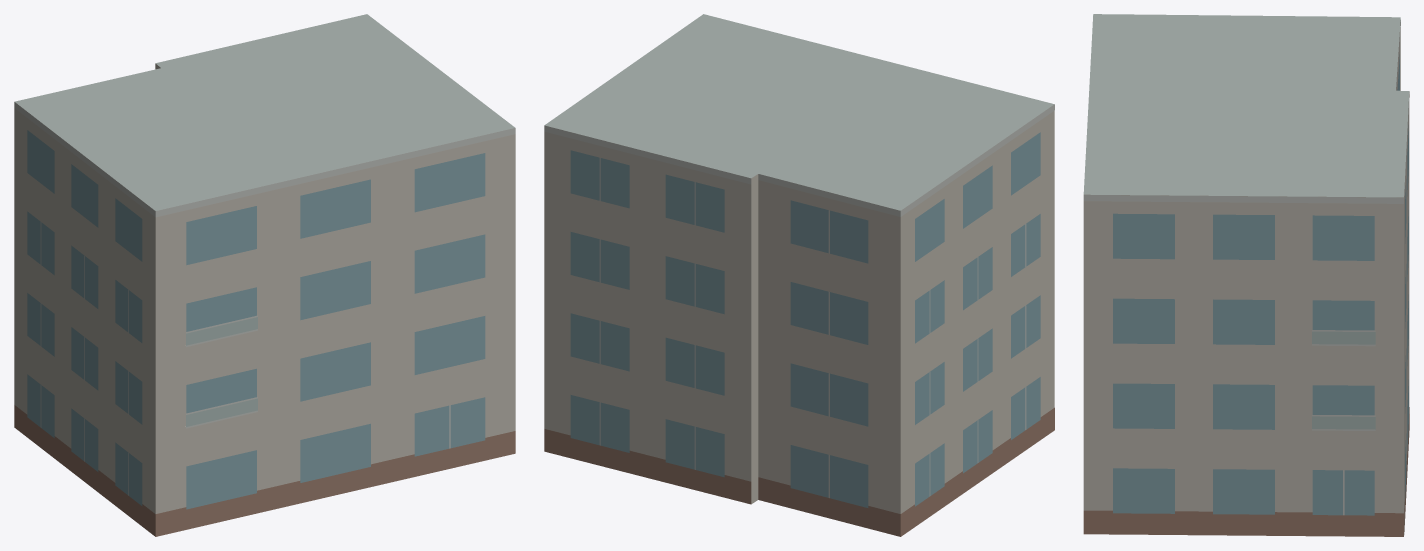
The model's file is survey-upis-32518695.glb.
3 views of the same model, side by side, from view 1: azimuth 30°, elevation 25°; view 2: azimuth 150°, elevation 25°; view 3: azimuth 270°, elevation 25° (orthographic). The views are drawn at different scales.
Parts seen in each view (by area): view 1: survey-upis-32518695.tmp; view 2: survey-upis-32518695.tmp; view 3: survey-upis-32518695.tmp.
Boxes of the visible parts, left/top/right/bottom form: survey-upis-32518695.tmp: left=14, top=14, right=515, bottom=536; survey-upis-32518695.tmp: left=544, top=14, right=1054, bottom=536; survey-upis-32518695.tmp: left=1083, top=14, right=1409, bottom=536.
Size of the model in its own units: 14.74 by 12.7 by 11.06.
